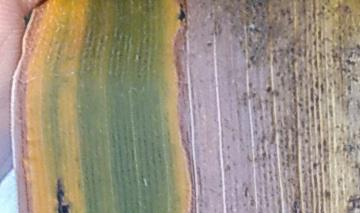tarspot: (178, 8, 186, 22)
